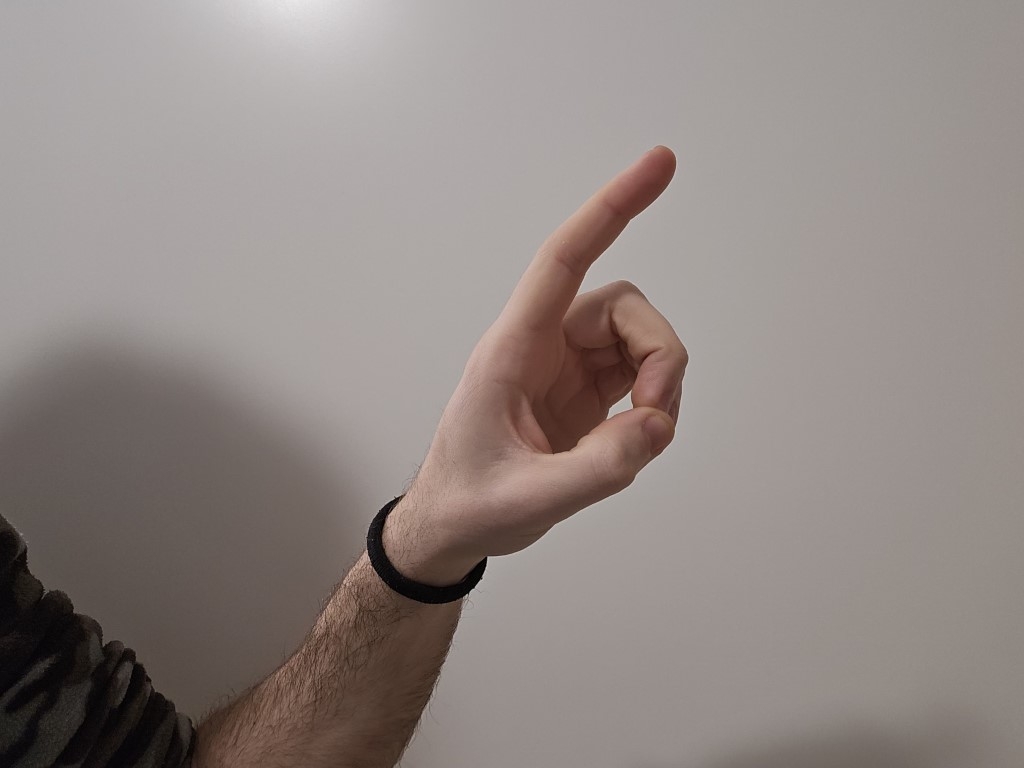d: (386, 142, 718, 568)
